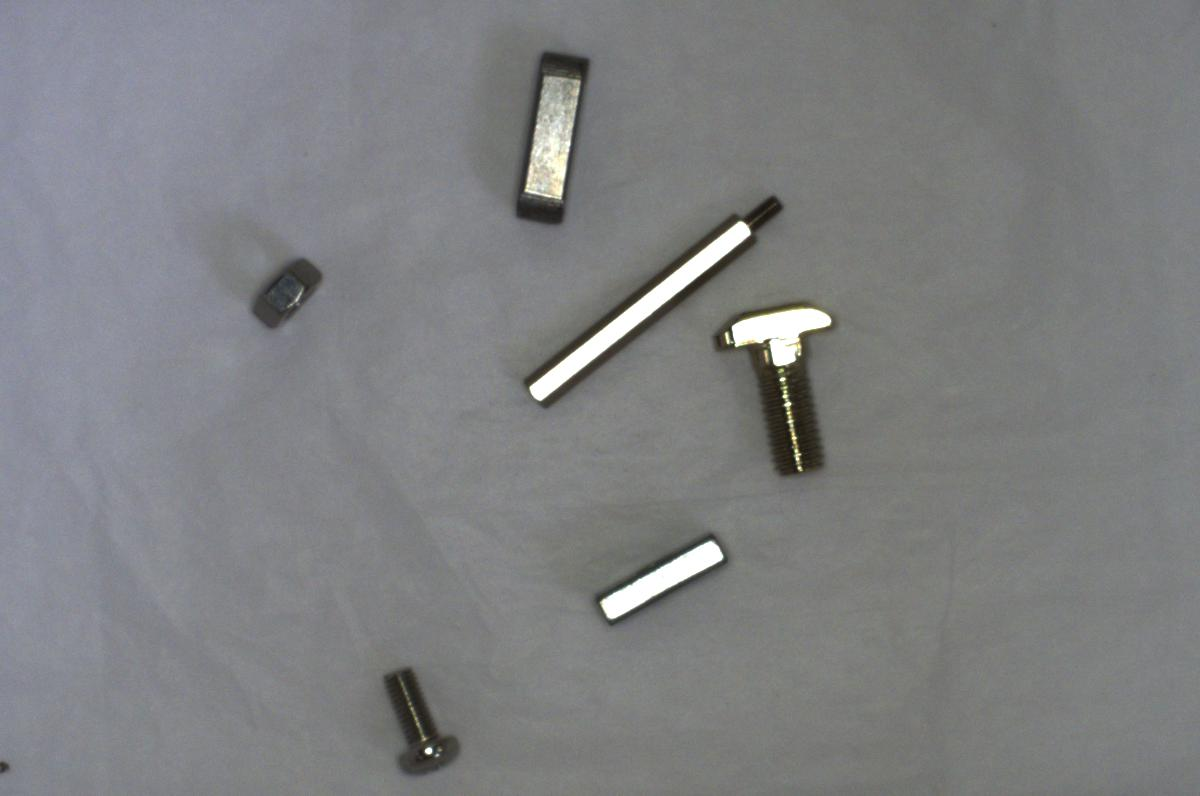Hexagon nut: (239, 246, 331, 338)
Hexagonal steel column: (512, 194, 780, 408)
Keybar: (507, 42, 592, 238)
Rectangular nut: (597, 527, 734, 626)
Round head screw: (375, 662, 468, 786)
T-shaped screw: (718, 300, 845, 486)
